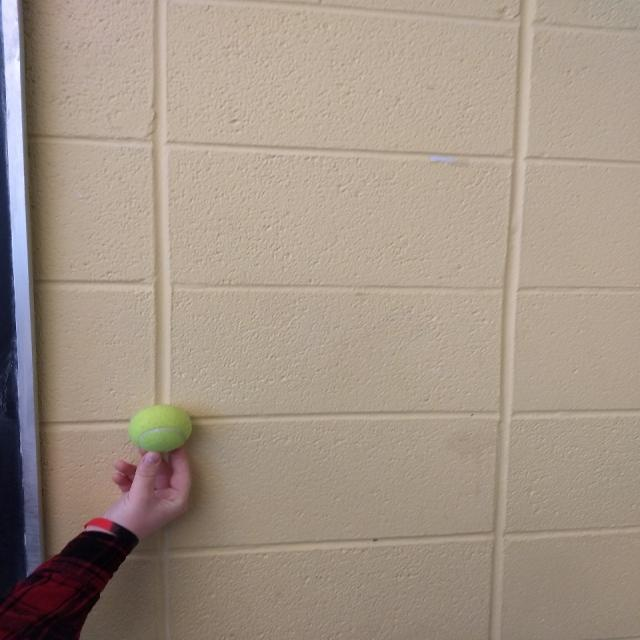tennis-ball: (129, 407, 195, 451)
